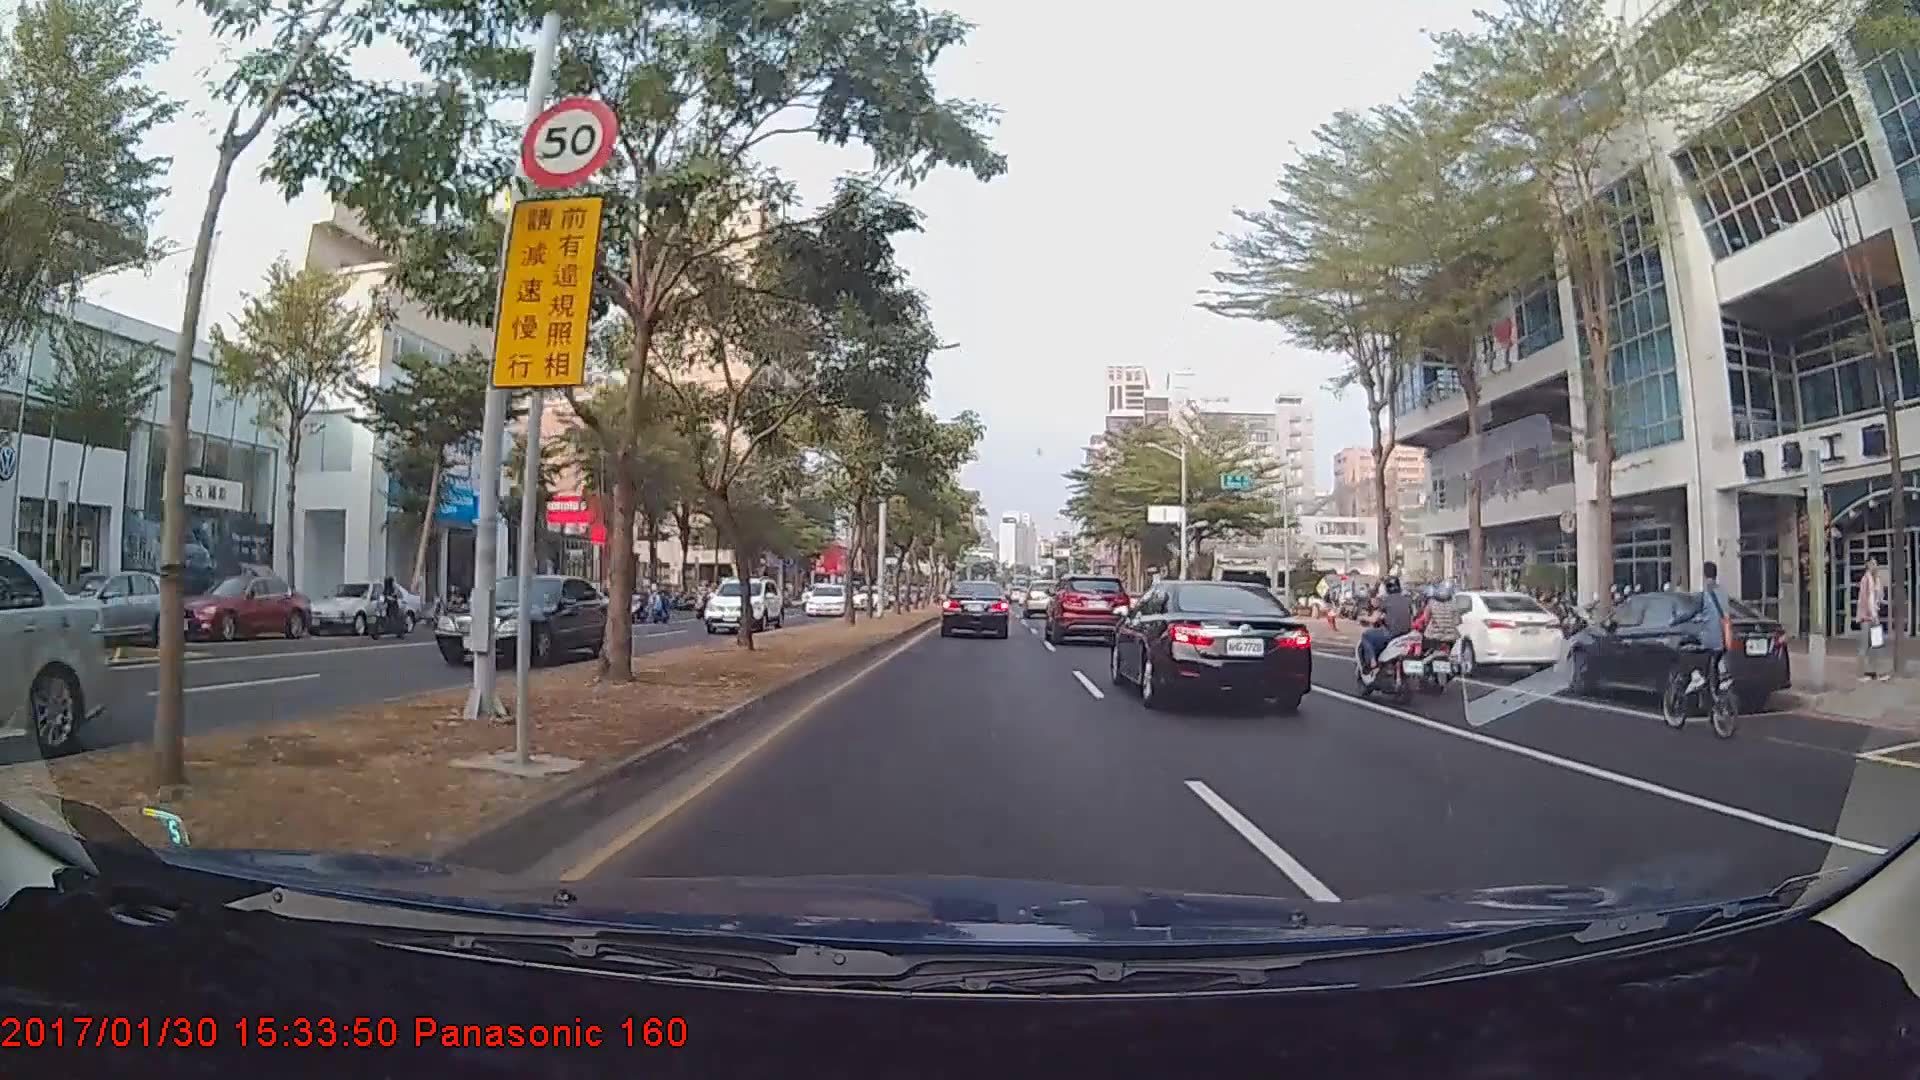pedestrian: (1857, 560, 1887, 683)
rider: (1647, 567, 1763, 749), (1352, 572, 1439, 710), (1412, 578, 1471, 689)
vehicle: (1570, 585, 1794, 715), (1116, 572, 1310, 713), (0, 538, 110, 762), (433, 567, 619, 668), (1408, 588, 1561, 677), (164, 572, 313, 639), (47, 570, 174, 646), (307, 579, 416, 636), (1047, 572, 1126, 646), (701, 575, 785, 634), (939, 578, 1010, 640), (802, 581, 848, 618), (1022, 579, 1057, 618)
